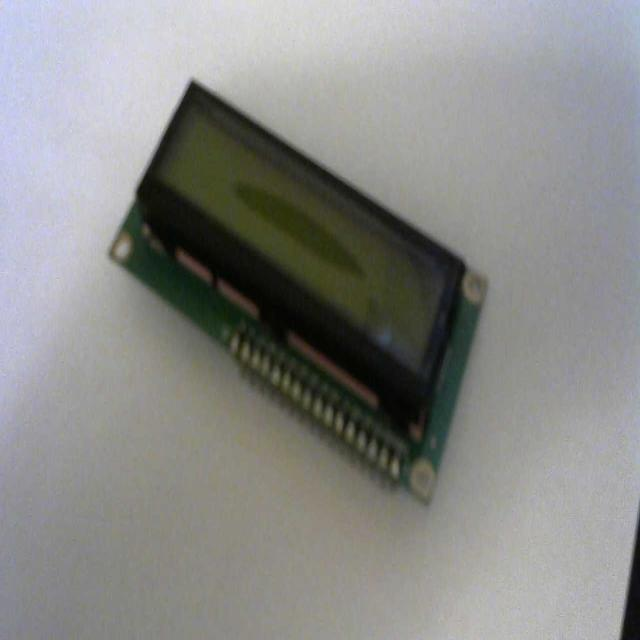lcd: (109, 67, 499, 529)
